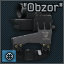NPZ PK1 "Obzor" reflex sight: (0, 0, 64, 64)
